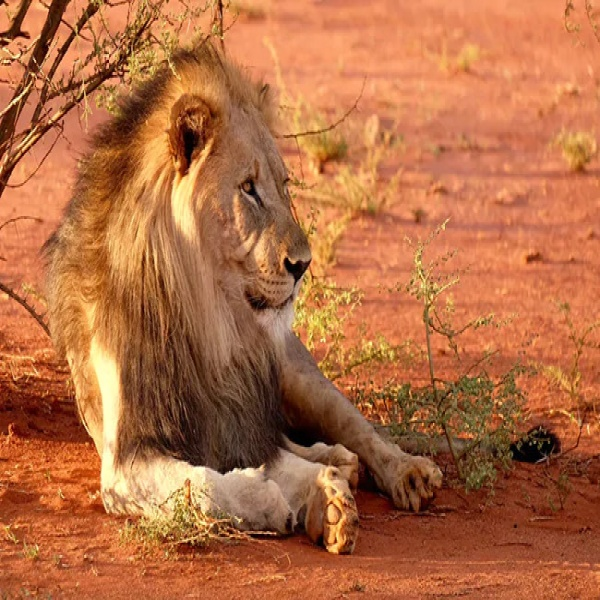Lion: (50, 36, 447, 559)
